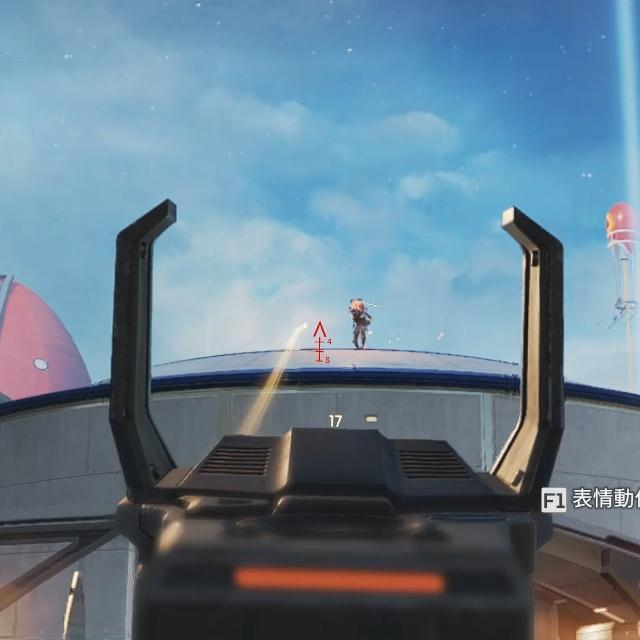avatar: (347, 296, 373, 350)
